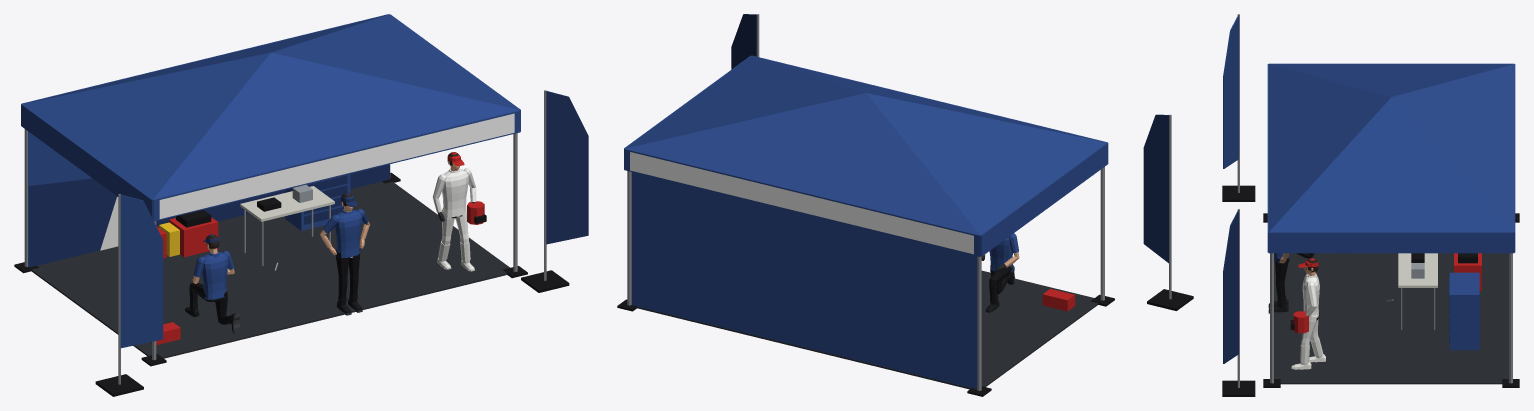
File: pit_setup.glb
The picture shows the model from 3 angles, left to right: view 1: azimuth 30°, elevation 25°; view 2: azimuth 150°, elevation 25°; view 3: azimuth 270°, elevation 25°; orthographic projection. The views are drawn at different scales.
Visible parts, largest first — view 1: Tent, Feather, Feather2, Tools, Rider, Track, Mechanic, FeatherPole, Feather2Pole; view 2: Tent, Feather, Mechanic, FeatherPole, Feather2; view 3: Tent, Tools, Rider, Feather, Feather2, Feather2Pole, FeatherPole, Track.
Boxes of the visible parts, x1,y1,x2,y2 form: Tent: [14, 14, 527, 366]; Feather: [120, 194, 163, 348]; Feather2: [546, 91, 588, 244]; Tools: [156, 174, 350, 265]; Rider: [432, 152, 486, 271]; Track: [320, 192, 370, 315]; Mechanic: [150, 234, 240, 344]; FeatherPole: [95, 194, 143, 396]; Feather2Pole: [521, 90, 569, 292]; Tent: [617, 55, 1114, 396]; Feather: [1143, 114, 1168, 263]; Mechanic: [981, 233, 1075, 312]; FeatherPole: [1147, 114, 1193, 310]; Feather2: [731, 14, 756, 69]; Tent: [1263, 63, 1519, 387]; Tools: [1398, 253, 1481, 350]; Rider: [1290, 258, 1326, 369]; Feather: [1223, 15, 1238, 168]; Feather2: [1223, 210, 1238, 363]; Feather2Pole: [1222, 209, 1255, 396]; FeatherPole: [1222, 14, 1255, 201]; Track: [1268, 253, 1289, 313].
Bounding box in the file's own units: 7.78 × 3.41 × 4.48.
